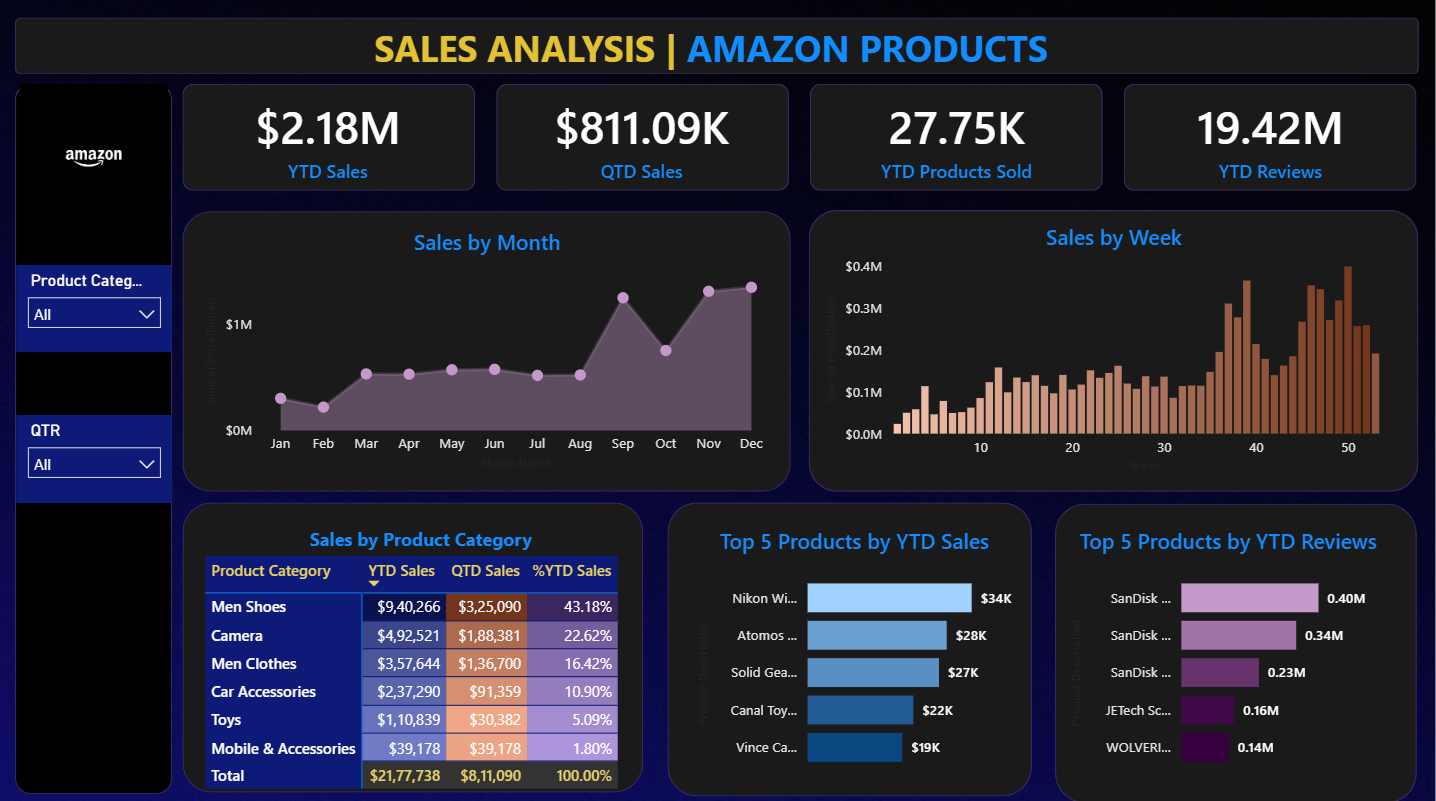

What the dashboard file says about the page in this screenshot:
{"tool":"powerbi","page":{"name":"Page 1","canvas":[1280,720],"ordinal":0},"visuals":[{"type":"shape","box":[13.7,15.1,1250.1,50.8],"z":0},{"type":"shape","box":[162.9,74.8,260.6,95.3],"z":0,"group":"g3"},{"type":"textbox","box":[328,15.1,621.6,59],"z":1000},{"type":"shape","box":[442.3,74.8,260.6,95.3],"z":1000,"group":"g3"},{"type":"shape","box":[13.7,74.1,140,632.6],"z":2000},{"type":"shape","box":[1001.2,74.8,260.6,95.3],"z":2000,"group":"g3"},{"type":"card","fields":{"Values":["Amazon_Data.YTD Sales"]},"box":[170.1,79.6,243.7,86.9],"z":2000,"group":"g2"},{"type":"shape","box":[721.8,74.8,260.6,95.3],"z":3000,"group":"g3"},{"type":"shape","box":[162.9,188.2,541.7,249.7],"z":3000},{"type":"card","fields":{"Values":["Amazon_Data.QTD Sales"]},"box":[450,79.6,243.7,86.9],"z":4000,"group":"g2"},{"type":"shape","box":[720.2,187,542.9,250.9],"z":4000},{"type":"areaChart","title":"Sales by Month","fields":{"Category":["Date Table.Month Name"],"Y":["Sum(Amazon_Data.Price(Dollar))"]},"box":[178.6,202.7,511.5,220.8],"z":5000},{"type":"group","id":"g1","title":"Group 1","box":[162.9,74.8,1099.1,95.3],"z":6000},{"type":"group","id":"g2","title":"Group 3","box":[170.1,79.6,1083.4,86.9],"z":7000},{"type":"card","fields":{"Values":["Amazon_Data.YTD Products Sold"]},"box":[729.9,79.6,243.7,86.9],"z":7000,"group":"g2"},{"type":"card","fields":{"Values":["Amazon_Data.YTD Reviews"]},"box":[1009.8,79.6,243.7,86.9],"z":8000,"group":"g2"},{"type":"columnChart","title":"Sales by Week","fields":{"Category":["Date Table.Week"],"Y":["Sum(Amazon_Data.Price(Dollar))"]},"box":[729.9,197.9,523.6,228],"z":8000},{"type":"group","id":"g3","title":"Group 2","box":[162.9,74.8,1098.9,95.3],"z":8002,"group":"g1"},{"type":"shape","box":[162.9,447.6,410.2,258.2],"z":9000},{"type":"pivotTable","title":"Sales by Product Category","fields":{"Rows":["Amazon_Data.Product Category"],"Values":["Amazon_Data.YTD Sales1","Amazon_Data.QTD Sales","Amazon_Data.YTD Sales"]},"box":[178.6,468.1,393.3,241.3],"z":10000},{"type":"shape","box":[594.8,447.6,324.5,261.8],"z":11000},{"type":"shape","box":[939.8,448.8,322.1,266.6],"z":12000},{"type":"clusteredBarChart","title":"Top 5 Products by YTD Sales","fields":{"Category":["Amazon_Data.Product Description"],"Y":["Amazon_Data.YTD Sales"]},"box":[615.3,468.1,290.8,229.2],"z":13000},{"type":"clusteredBarChart","title":"Top 5 Products by YTD Reviews","fields":{"Category":["Amazon_Data.Product Description"],"Y":["Amazon_Data.YTD Reviews"]},"box":[948.3,468.1,290.8,229.2],"z":14000},{"type":"slicer","fields":{"Values":["Amazon_Data.Product Category"]},"box":[14.5,236.5,138.7,77.2],"z":15000},{"type":"slicer","fields":{"Values":["Date Table.QTR"]},"box":[14.5,369.2,138.7,78.4],"z":16000},{"type":"image","box":[13.3,74.8,139.9,132.7],"z":17000}]}

Visuals, with their boxes in screenshot pixels (x1, y1, x2, y2), scaled from the page's 1280x720 canvas onto the 1436x801 screenshot:
shape: 15/17/1418/73
shape: 183/83/475/189
textbox: 368/17/1065/82
shape: 496/83/789/189
shape: 15/82/172/786
shape: 1123/83/1416/189
card - Amazon_Data.YTD Sales: 191/89/464/185
shape: 810/83/1102/189
shape: 183/209/790/487
card - Amazon_Data.QTD Sales: 505/89/778/185
shape: 808/208/1417/487
"Sales by Month" areaChart: 200/226/774/471
"Group 1" group: 183/83/1416/189
"Group 3" group: 191/89/1406/185
card - Amazon_Data.YTD Products Sold: 819/89/1092/185
card - Amazon_Data.YTD Reviews: 1133/89/1406/185
"Sales by Week" columnChart: 819/220/1406/474
"Group 2" group: 183/83/1416/189
shape: 183/498/643/785
"Sales by Product Category" pivotTable: 200/521/642/789
shape: 667/498/1031/789
shape: 1054/499/1416/796
"Top 5 Products by YTD Sales" clusteredBarChart: 690/521/1017/776
"Top 5 Products by YTD Reviews" clusteredBarChart: 1064/521/1390/776
slicer - Amazon_Data.Product Category: 16/263/172/349
slicer - Date Table.QTR: 16/411/172/498
image: 15/83/172/231
